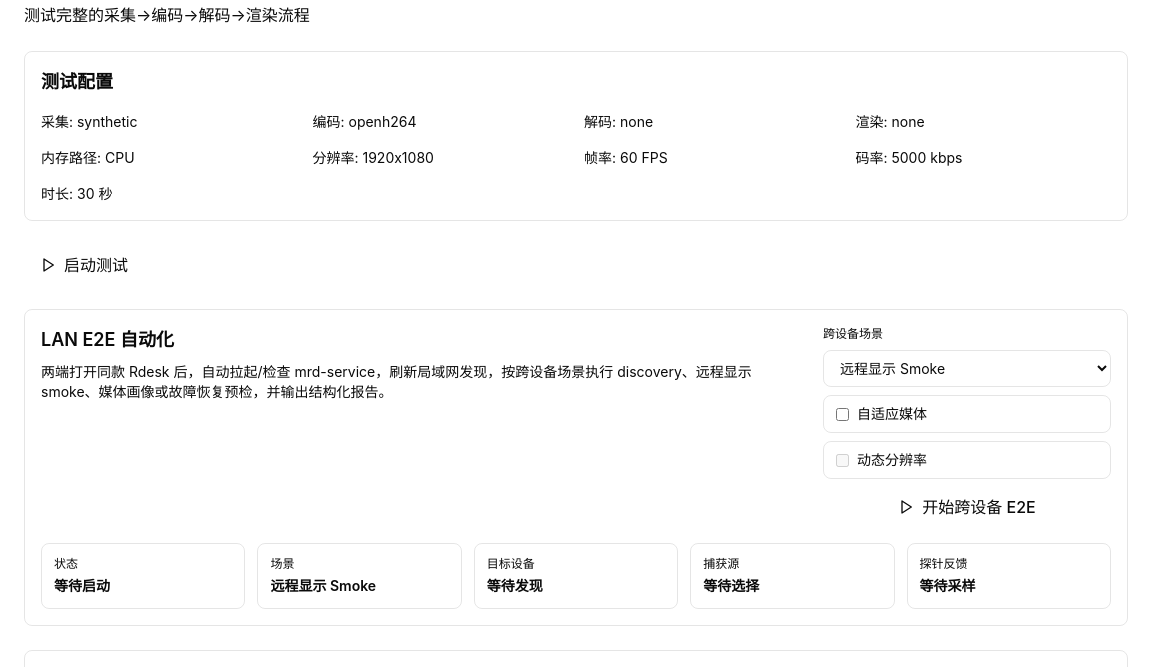
Test: E2ETestPage LAN automation › shows the render pipeline execution breakdown from harness metrics
What coordinates should you click on to do the following:
click the button "启动测试"
I would click on:
 (84, 265)
Its box is 24,245 -> 144,285.
(page scrolled)
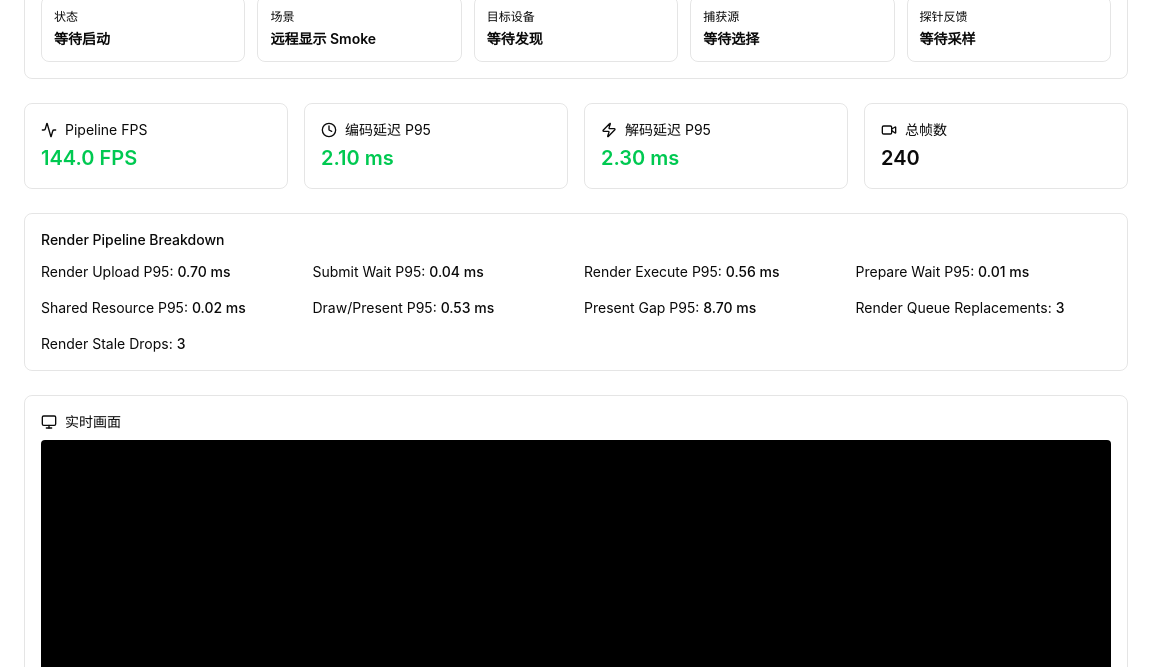
Result: the heading "Render Pipeline Breakdown" is shown at 41,231 -> 224,248
Result: the text "Render Execute P95:" is shown at 584,263 -> 722,280
Result: the text "0.56 ms" is shown at 726,263 -> 780,280
